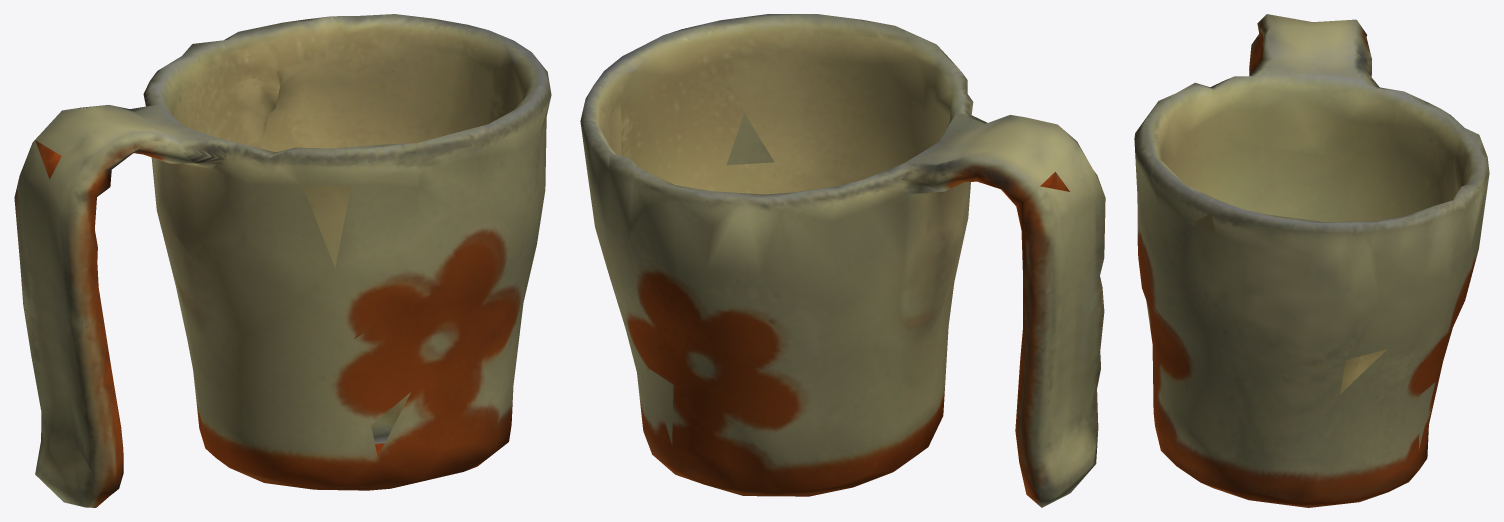
File: denden_mug_flower.dae
3 renders of one model, left to right at view 1: azimuth 30°, elevation 25°; view 2: azimuth 150°, elevation 25°; view 3: azimuth 270°, elevation 25°, orthographic. The views are drawn at different scales.
Parts seen in each view (by area): view 1: Denden_mug_fl_or; view 2: Denden_mug_fl_or; view 3: Denden_mug_fl_or.
Part boxes in pixels (x1,y1,x2,y2): Denden_mug_fl_or: [14, 14, 551, 507]; Denden_mug_fl_or: [580, 14, 1105, 507]; Denden_mug_fl_or: [1134, 14, 1489, 507].
Size of the model in its own units: 0.1139 by 0.0823 by 0.0859.
1 material, 1 textured.
